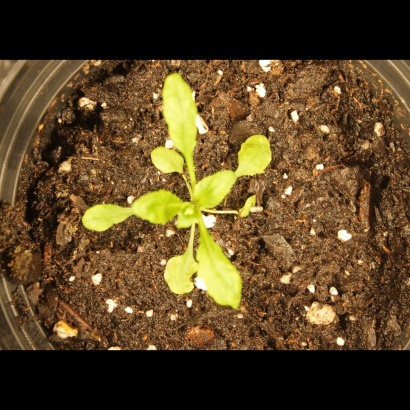leaf: (191, 231, 250, 314), (156, 71, 204, 155), (234, 131, 281, 181), (158, 247, 200, 302), (76, 197, 134, 235), (134, 191, 190, 226), (195, 167, 238, 212), (141, 142, 185, 180), (231, 195, 270, 223)
